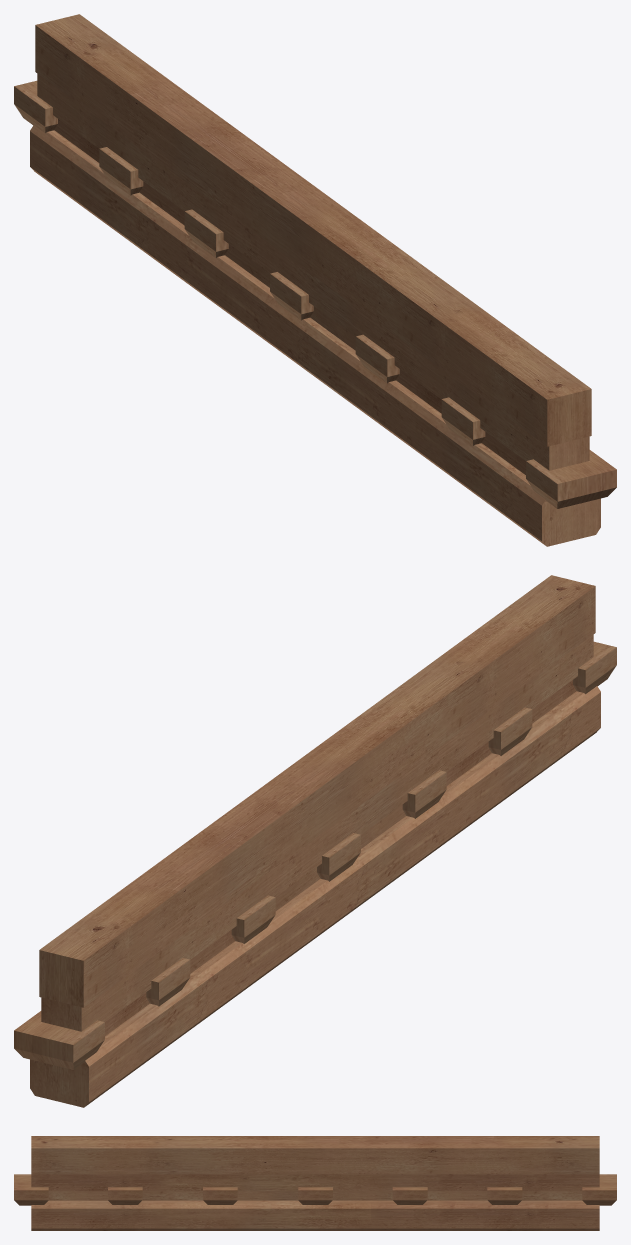
File: SM_JSH_BeamC.fbx
3 renders of one model, top to bottom at view 1: azimuth 30°, elevation 25°; view 2: azimuth 150°, elevation 25°; view 3: azimuth 270°, elevation 25°, orthographic. The views are drawn at different scales.
Visible parts, largest first — view 1: SM_JSH_BeamC; view 2: SM_JSH_BeamC; view 3: SM_JSH_BeamC.
Part boxes in pixels (x1,y1,x2,y2): SM_JSH_BeamC: (14,14,616,546); SM_JSH_BeamC: (14,575,616,1107); SM_JSH_BeamC: (14,1136,616,1230).
Size of the model in its own units: 15.77 by 250 by 37.23.
Materials: 1 (1 with a texture image).
